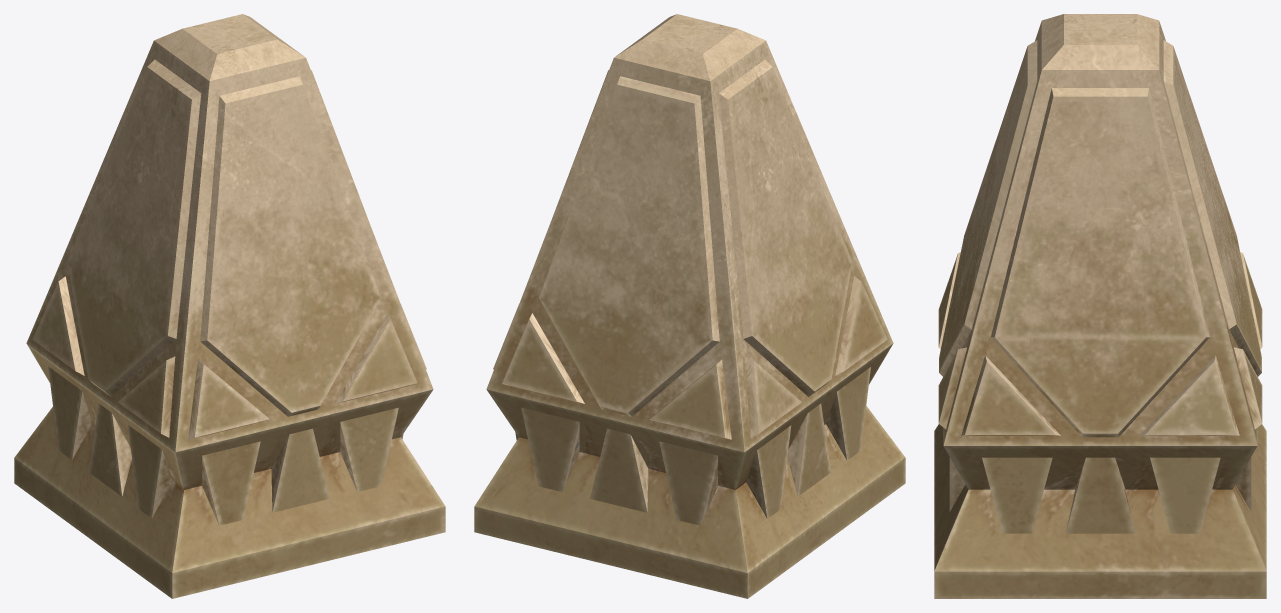
File: Ruin stone.FBX
3 views of the same model, side by side, from view 1: azimuth 30°, elevation 25°; view 2: azimuth 150°, elevation 25°; view 3: azimuth 270°, elevation 25° (orthographic). The views are drawn at different scales.
Parts seen in each view (by area): view 1: Box031; view 2: Box031; view 3: Box031.
Part boxes in pixels (x1,y1,x2,y2): Box031: (14,14,445,598); Box031: (474,14,905,598); Box031: (934,14,1266,598).
Bounding box in the file's own units: 1147 × 1900 × 1147.
Materials: 1 (1 with a texture image).
